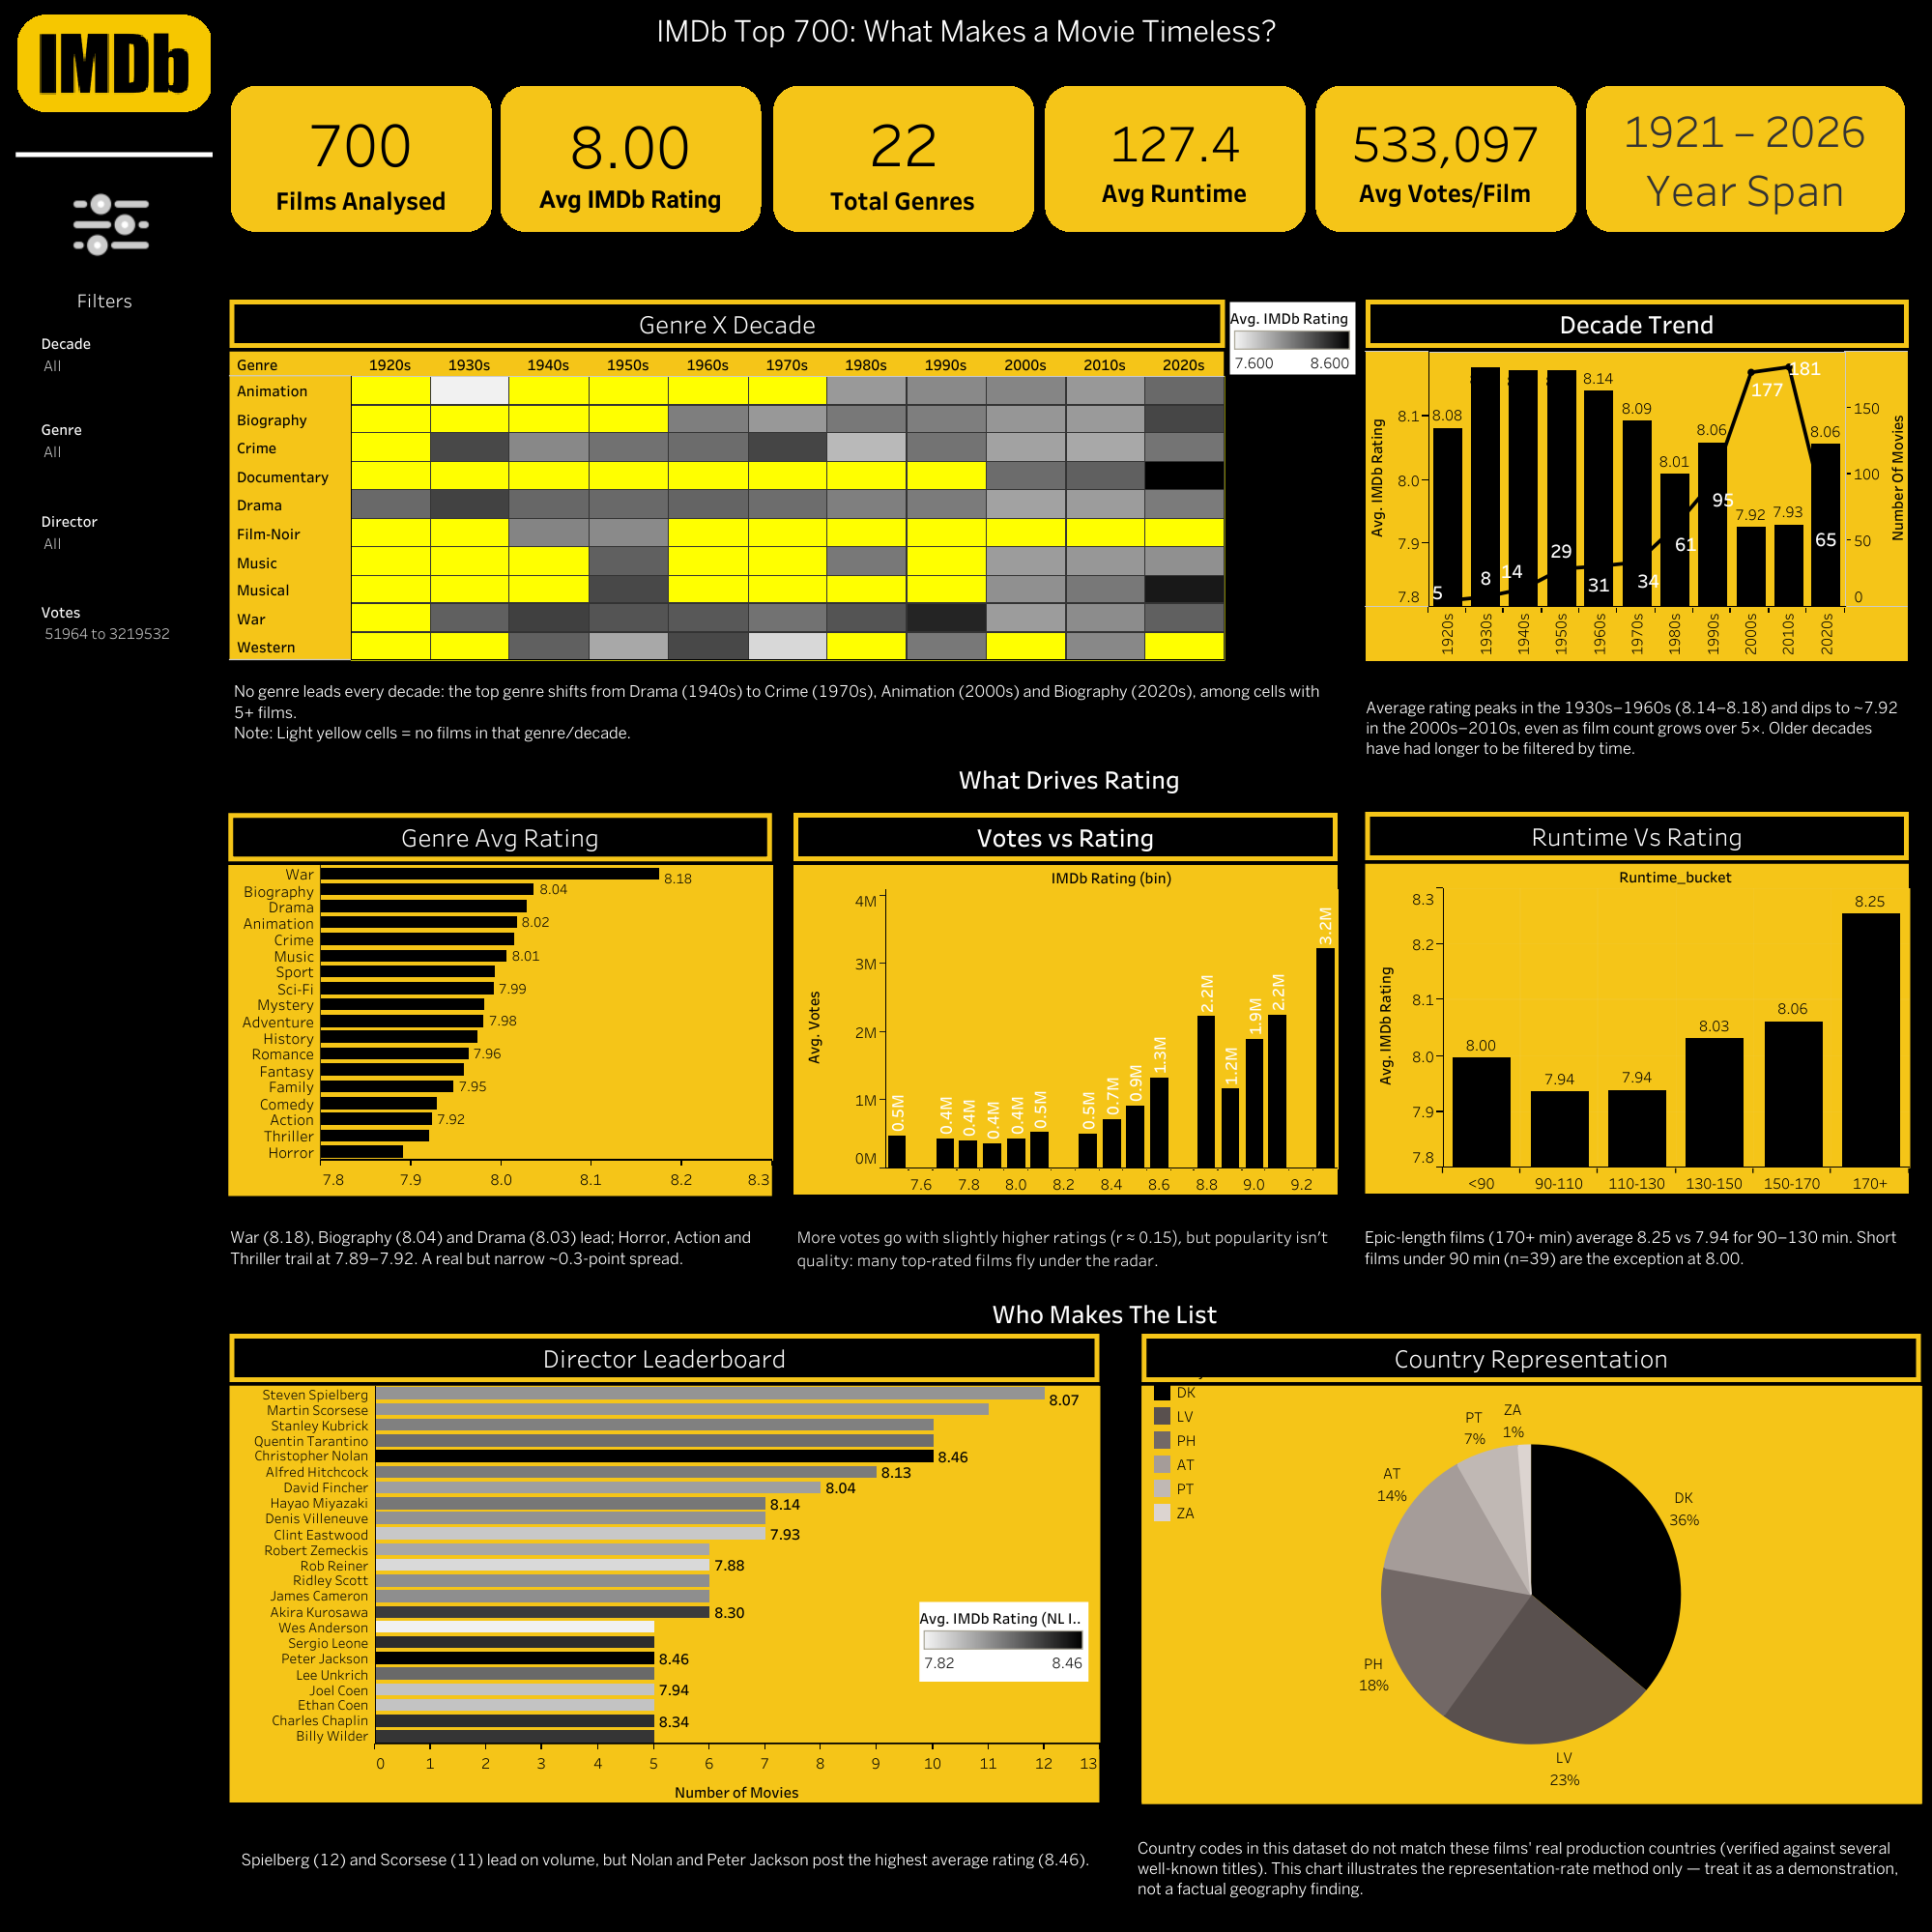

Layout of this report page (visuals, bound fields, positions):
{"tool":"tableau","page":{"name":"IMDb Top 700 — Overview","canvas":[1600,1600],"ordinal":0},"visuals":[{"type":"title","box":[0,0,1600,50]},{"type":"image","param":"C:/Users/HP/Downloads/images.png","box":[14,12,162,81]},{"type":"worksheet","title":"Total Films","mark":"Text","box":[190,70,218,123]},{"type":"worksheet","title":"Avg Rating","mark":"Automatic","box":[413,70,218,123]},{"type":"worksheet","title":"Total Genres","mark":"Automatic","box":[639,70,218,123]},{"type":"worksheet","title":"Avg Runtime (mins)","mark":"Automatic","box":[864,70,218,123]},{"type":"worksheet","title":"Avg Votes/FIlm","mark":"Automatic","box":[1088,70,218,123]},{"type":"worksheet","title":"Year Span","mark":"Automatic","box":[1312,70,266,123]},{"type":"blank","box":[13,126,163,4]},{"type":"image","param":"C:/Users/HP/Downloads/filter (1).png","box":[58,152,72,68]},{"type":"text","box":[61,221,64,53]},{"type":"worksheet","title":"Genre X Decade","mark":"Automatic","rows":["Genre"],"cols":["Calculation_0742497451638784"],"box":[190,248,824,300]},{"type":"worksheet","title":"Decade Trend","mark":"Automatic","rows":["IMDb Rating","Title"],"cols":["Calculation_0742497451638784"],"box":[1130,248,450,300]},{"type":"legend","title":"Genre X Decade","param":"[federated.1ibzbtx08h68oc1gsjr2q0w1pzic].[avg:IMDb Rating:qk]","box":[1018,250,104,60]},{"type":"filter","title":"Votes VsRationg","param":"[federated.1ibzbtx08h68oc1gsjr2q0w1pzic].[none:Calculation_0742497451638784:nk]","box":[34,274,114,55]},{"type":"filter","title":"Votes VsRationg","param":"[federated.1ibzbtx08h68oc1gsjr2q0w1pzic].[none:Genre:nk]","box":[34,345,114,55]},{"type":"filter","title":"Votes VsRationg","param":"[federated.1ibzbtx08h68oc1gsjr2q0w1pzic].[none:Director (NL_IMDbTop700_director_","box":[34,421,114,55]},{"type":"filter","title":"Votes VsRationg","param":"[federated.1ibzbtx08h68oc1gsjr2q0w1pzic].[none:Votes:qk]","box":[34,496,114,70]},{"type":"text","box":[191,556,918,66]},{"type":"text","box":[1128,559,454,87]},{"type":"text","box":[756,625,258,39]},{"type":"worksheet","title":"Runtime Vs Rating (1)","mark":"Automatic","rows":["IMDb Rating"],"cols":["Calculation_0742497486639106"],"box":[1130,672,450,316]},{"type":"worksheet","title":"Genre Avg Rating","mark":"Automatic","rows":["Genre"],"cols":["IMDb Rating (NL_IMDbTop700_genre_long.csv)"],"box":[189,673,450,317]},{"type":"worksheet","title":"Votes VsRationg","mark":"Bar","rows":["Votes"],"cols":["IMDb Rating (bin)"],"box":[657,673,450,316]},{"type":"text","box":[657,997,450,71]},{"type":"text","box":[1127,997,454,72]},{"type":"text","box":[188,1000,450,66]},{"type":"text","box":[769,1068,291,37]},{"type":"worksheet","title":"Director Leaderboard","mark":"Bar","rows":["Director (NL_IMDbTop700_director_long.csv)"],"cols":["Title (NL_IMDbTop700_director_long.csv)"],"box":[190,1104,720,388]},{"type":"worksheet","title":"Country Representation","mark":"Pie","box":[945,1104,645,388]},{"type":"legend","title":"Country Representation","param":"[federated.1ibzbtx08h68oc1gsjr2q0w1pzic].[none:Country (NL_IMDbTop700_country_lo","box":[952,1123,59,148]},{"type":"legend","title":"Director Leaderboard","param":"[federated.1ibzbtx08h68oc1gsjr2q0w1pzic].[avg:IMDb Rating (NL_IMDbTop700_directo","box":[761,1326,140,66]},{"type":"text","box":[939,1500,651,93]},{"type":"text","box":[197,1510,725,59]}]}

Visuals, with their boxes in screenshot pixels (x1, y1, x2, y2), scaled from the page's 1600x1600 canvas onto the 1932x1932 screenshot:
title: box(0, 0, 1931, 60)
image: box(16, 14, 213, 112)
"Total Films" worksheet (Text marks): box(229, 84, 493, 233)
"Avg Rating" worksheet: box(499, 84, 762, 233)
"Total Genres" worksheet: box(771, 84, 1035, 233)
"Avg Runtime (mins)" worksheet: box(1043, 84, 1307, 233)
"Avg Votes/FIlm" worksheet: box(1313, 84, 1577, 233)
"Year Span" worksheet: box(1584, 84, 1906, 233)
blank: box(15, 152, 213, 157)
image: box(70, 184, 157, 266)
text: box(73, 267, 151, 331)
"Genre X Decade" worksheet: box(229, 300, 1225, 662)
"Decade Trend" worksheet: box(1365, 300, 1908, 662)
"Genre X Decade" legend: box(1229, 302, 1355, 374)
"Votes VsRationg" filter: box(41, 331, 179, 397)
"Votes VsRationg" filter: box(41, 417, 179, 483)
"Votes VsRationg" filter: box(41, 508, 179, 575)
"Votes VsRationg" filter: box(41, 599, 179, 683)
text: box(231, 672, 1340, 751)
text: box(1362, 675, 1911, 780)
text: box(913, 755, 1225, 802)
"Runtime Vs Rating (1)" worksheet: box(1365, 812, 1908, 1193)
"Genre Avg Rating" worksheet: box(228, 813, 771, 1196)
"Votes VsRationg" worksheet (Bar marks): box(793, 813, 1337, 1195)
text: box(793, 1204, 1337, 1289)
text: box(1361, 1204, 1909, 1291)
text: box(227, 1207, 770, 1287)
text: box(929, 1289, 1280, 1335)
"Director Leaderboard" worksheet (Bar marks): box(229, 1333, 1099, 1802)
"Country Representation" worksheet (Pie marks): box(1141, 1333, 1920, 1802)
"Country Representation" legend: box(1149, 1356, 1221, 1535)
"Director Leaderboard" legend: box(919, 1601, 1088, 1681)
text: box(1134, 1811, 1920, 1923)
text: box(238, 1824, 1113, 1894)
